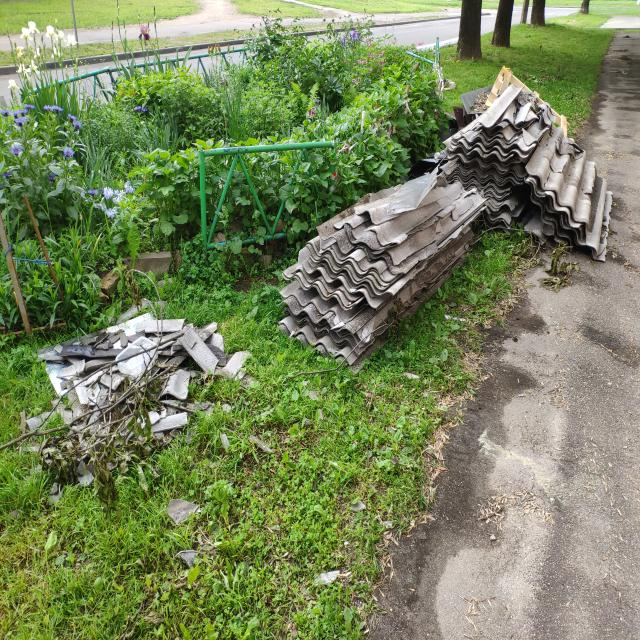entulho: (278, 174, 492, 358), (45, 310, 223, 469), (442, 85, 550, 229), (521, 89, 600, 252)
